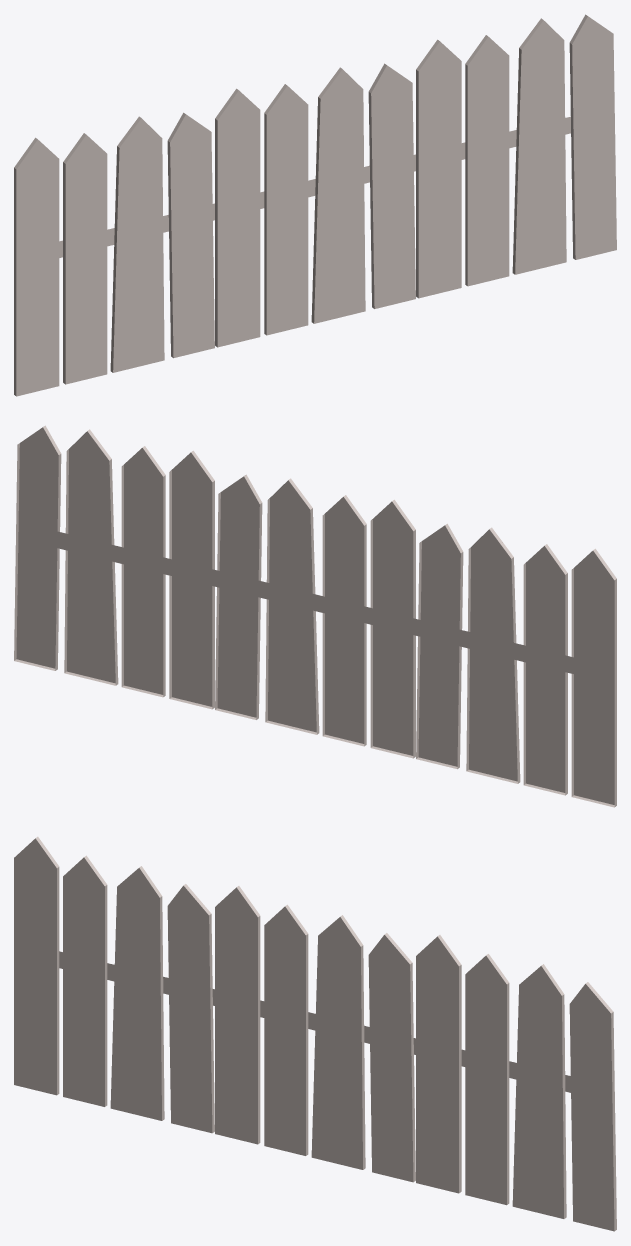
File: Fences.fbx
3 views of the same model, one above another, from view 1: azimuth 30°, elevation 25°; view 2: azimuth 150°, elevation 25°; view 3: azimuth 330°, elevation 25° (orthographic).
Visible parts, largest first — view 1: Plane.008; view 2: Plane.008; view 3: Plane.008.
Boxes of the visible parts, left/top/right/bottom form: Plane.008: left=14, top=14, right=616, bottom=396; Plane.008: left=14, top=425, right=616, bottom=807; Plane.008: left=14, top=836, right=616, bottom=1231.
Size of the model in its own units: 334 by 134 by 3.41.
